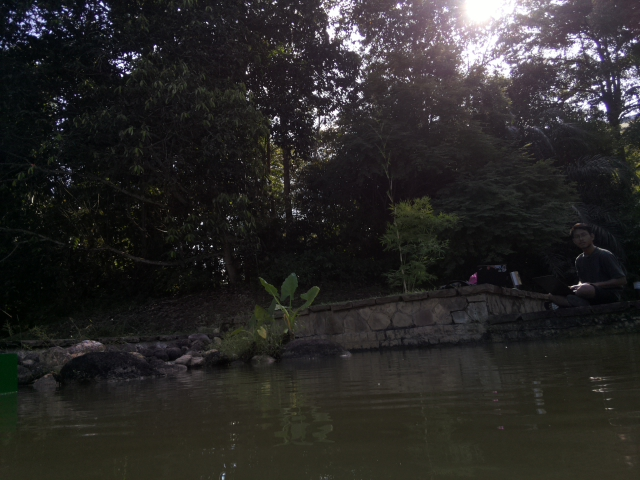obstacle: (1, 351, 17, 395)
